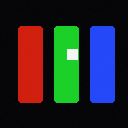1 square: (67, 49, 77, 59)
